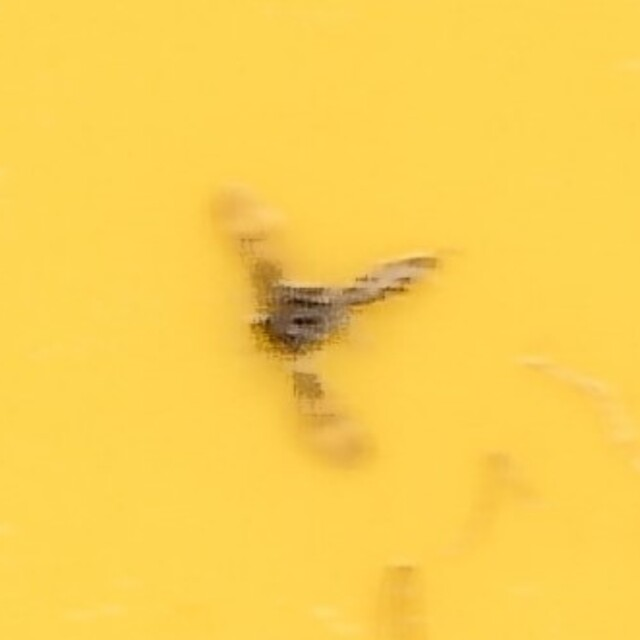Nematocera: (193, 169, 447, 471)
